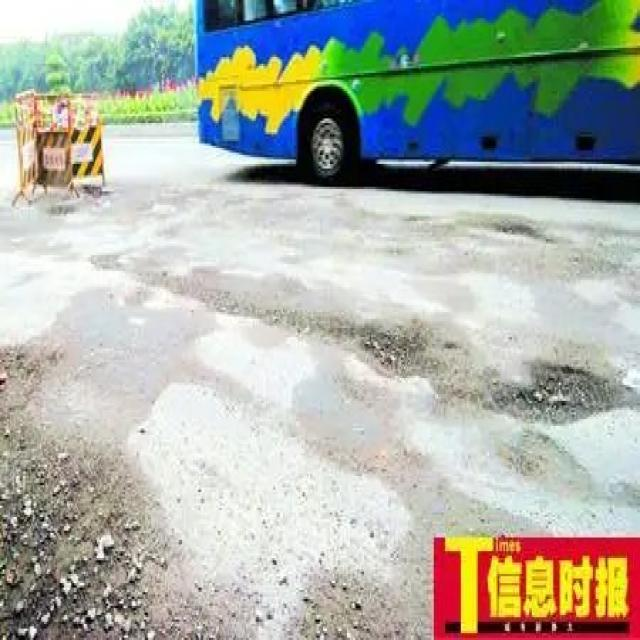Pothole: (491, 356, 632, 430), (356, 319, 432, 387), (486, 214, 556, 257)
